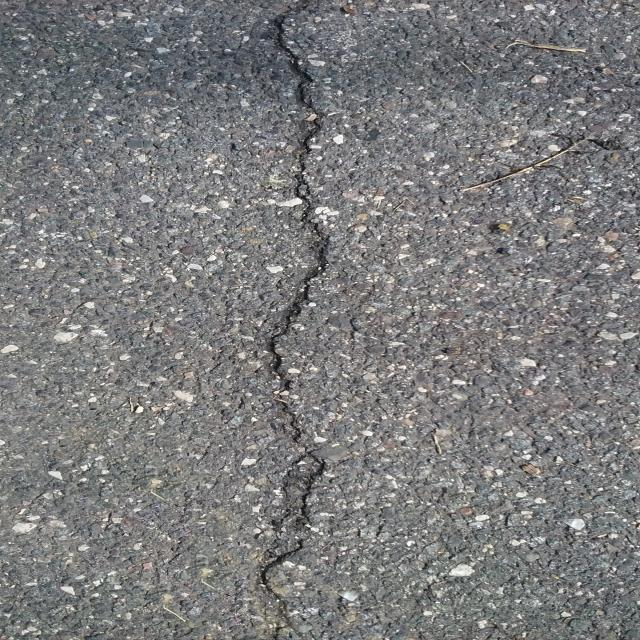Longitudial: (245, 1, 371, 640)
